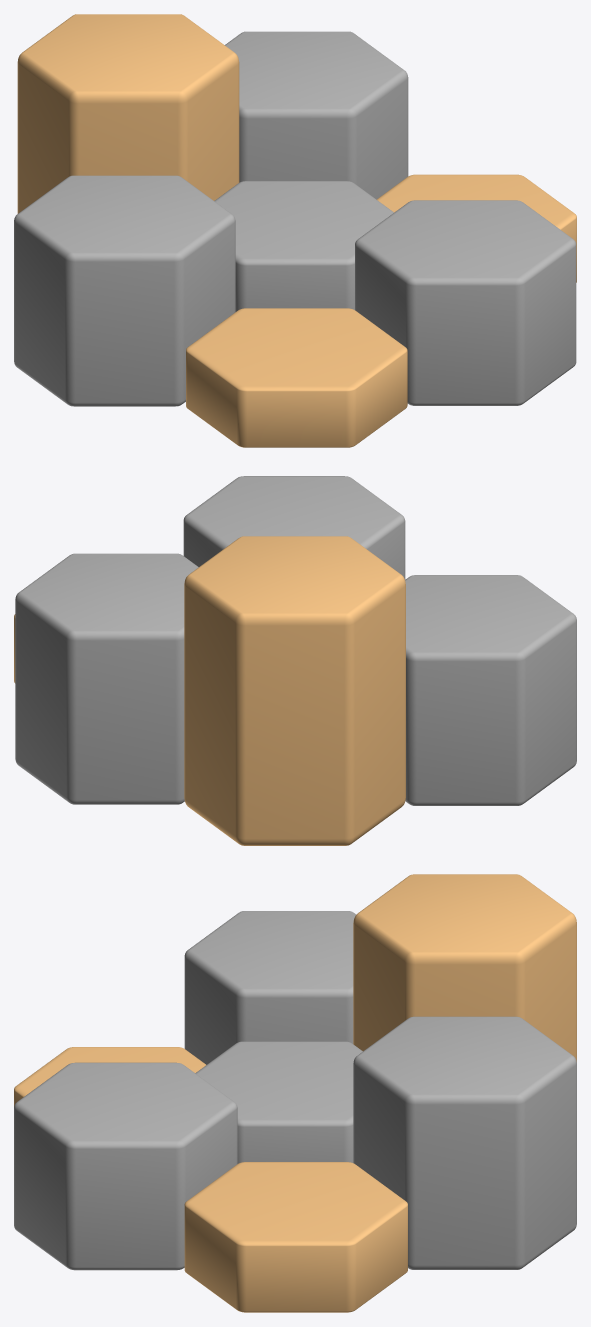
The model's file is hexagon-geometric-animated-3d-icon-419957086697.glb.
The picture shows the model from 3 angles, top to bottom: view 1: azimuth 30°, elevation 25°; view 2: azimuth 150°, elevation 25°; view 3: azimuth 270°, elevation 25°; orthographic projection.
Parts seen in each view (by area): view 1: Hexa 7, Hexa 5, Hexa 2, Hexa 6, Hexa 3, Hexa 1, Hexa 4; view 2: Hexa 2, Hexa 3, Hexa 7, Hexa 5; view 3: Hexa 3, Hexa 5, Hexa 2, Hexa 4, Hexa 7, Hexa 1, Hexa 6.
Boxes of the visible parts, bbox=[...] form: Hexa 7: bbox=[14, 175, 235, 406]; Hexa 5: bbox=[355, 200, 576, 405]; Hexa 2: bbox=[17, 14, 239, 213]; Hexa 6: bbox=[186, 308, 407, 447]; Hexa 3: bbox=[225, 31, 408, 199]; Hexa 1: bbox=[214, 181, 393, 311]; Hexa 4: bbox=[376, 174, 576, 282]; Hexa 2: bbox=[184, 536, 405, 845]; Hexa 3: bbox=[15, 553, 198, 804]; Hexa 7: bbox=[405, 575, 576, 805]; Hexa 5: bbox=[183, 476, 405, 579]; Hexa 3: bbox=[353, 1016, 576, 1269]; Hexa 5: bbox=[14, 1062, 237, 1270]; Hexa 2: bbox=[353, 874, 576, 1061]; Hexa 4: bbox=[184, 1162, 407, 1312]; Hexa 7: bbox=[184, 911, 356, 1064]; Hexa 1: bbox=[195, 1041, 362, 1163]; Hexa 6: bbox=[14, 1047, 205, 1106].
Bounding box in the file's own units: 5.23 × 2.28 × 4.95.
